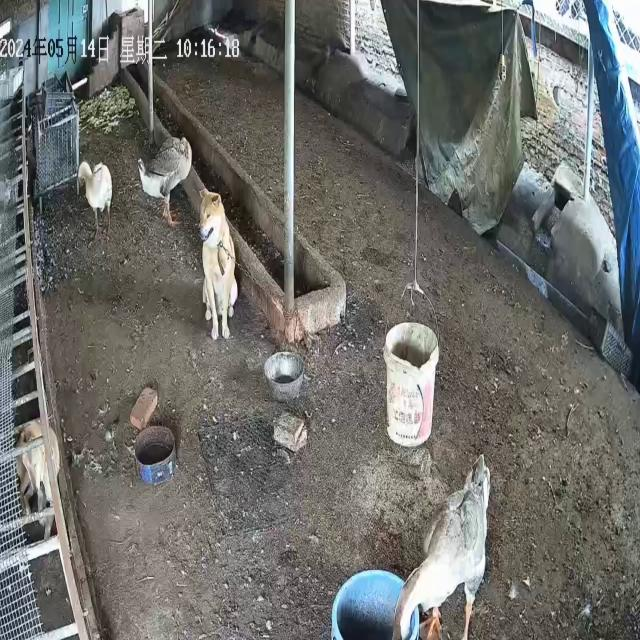dog: (198, 189, 239, 342), (14, 418, 61, 542)
